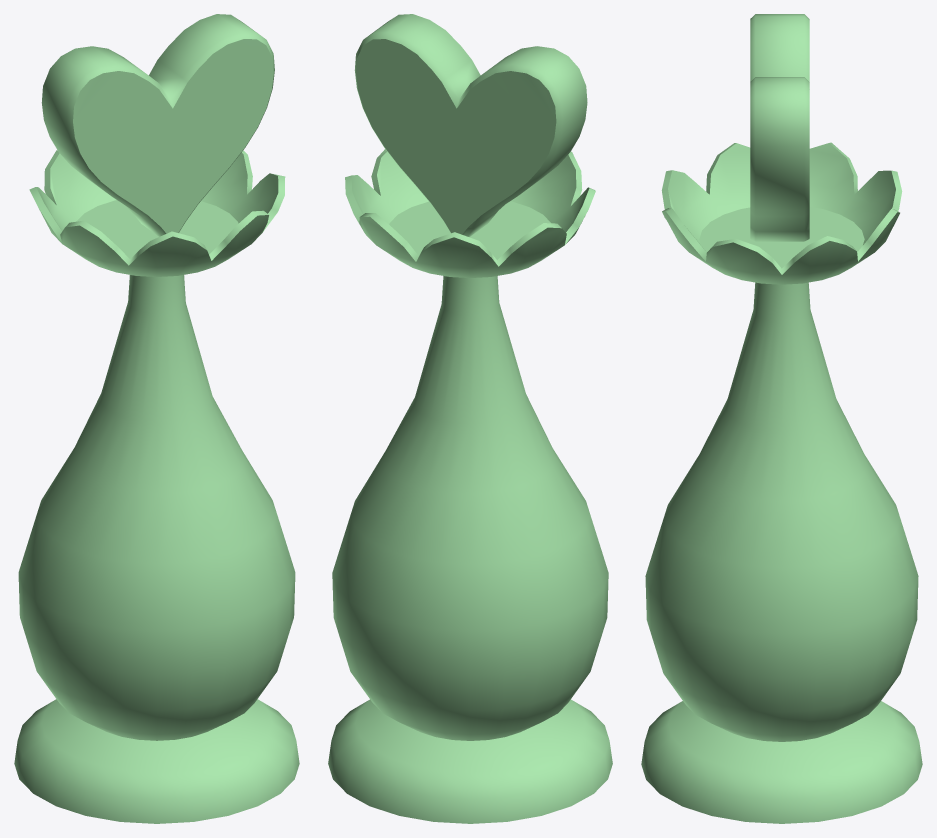
Rendered from Fence_Stolb.fbx.
3 renders of one model, left to right at view 1: azimuth 30°, elevation 25°; view 2: azimuth 150°, elevation 25°; view 3: azimuth 270°, elevation 25°, orthographic.
Parts seen in each view (by area): view 1: Fence_stolb; view 2: Fence_stolb; view 3: Fence_stolb.
Part boxes in pixels (bbox=[...]): Fence_stolb: bbox=[14, 14, 299, 823]; Fence_stolb: bbox=[328, 14, 612, 823]; Fence_stolb: bbox=[641, 14, 922, 823].
Size of the model in its own units: 124 by 348 by 124.
